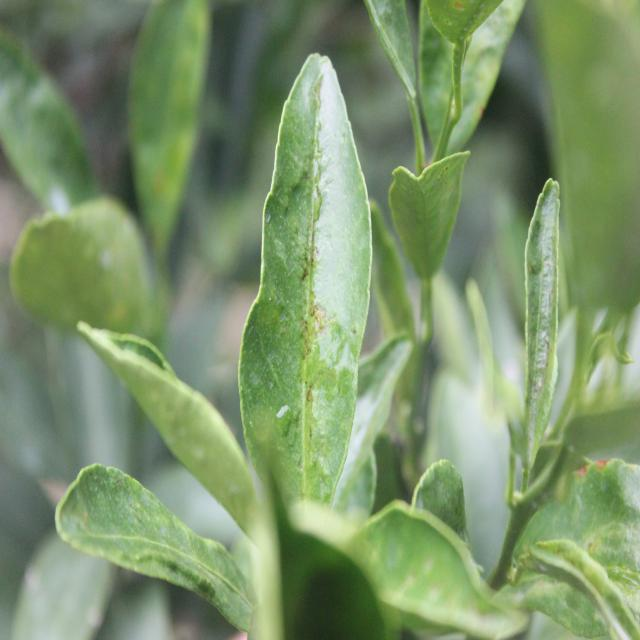canker: (272, 137, 346, 474)
